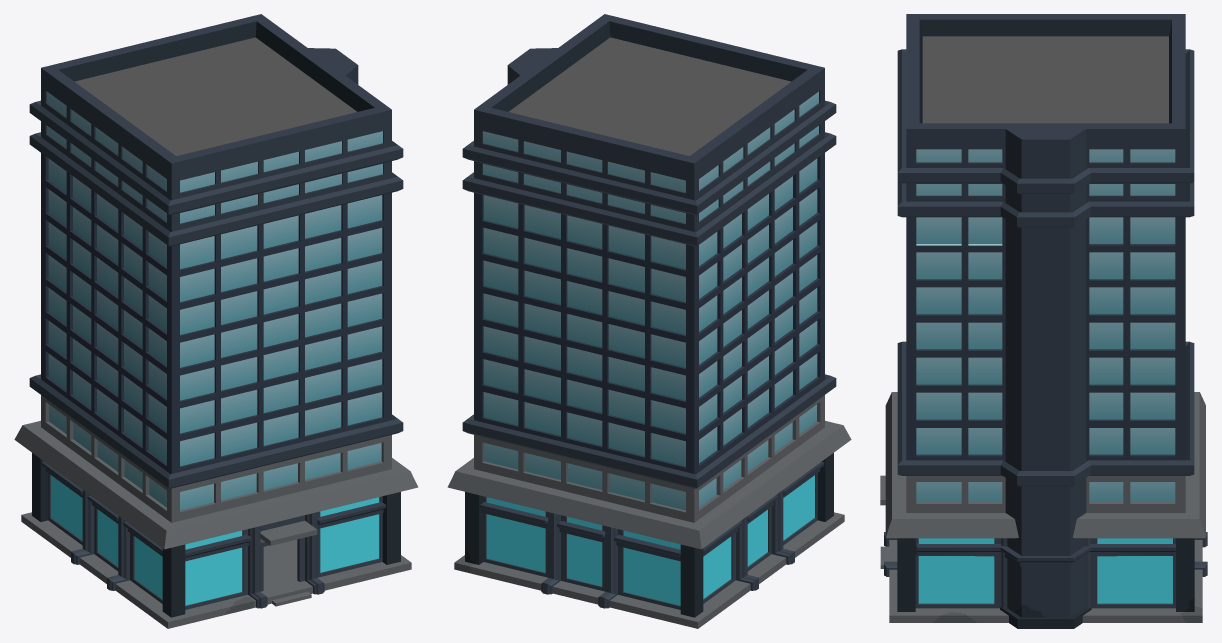
File: SM_Buildings_Office_06.fbx
The picture shows the model from 3 angles, left to right: view 1: azimuth 30°, elevation 25°; view 2: azimuth 150°, elevation 25°; view 3: azimuth 270°, elevation 25°; orthographic projection. The views are drawn at different scales.
Visible parts, largest first — view 1: SM_Buildings_Office_06; view 2: SM_Buildings_Office_06; view 3: SM_Buildings_Office_06.
Part boxes in pixels (box(x1,y1,x2,y2)): SM_Buildings_Office_06: box(14, 14, 418, 628); SM_Buildings_Office_06: box(447, 14, 851, 628); SM_Buildings_Office_06: box(880, 14, 1207, 628).
Bounding box in the file's own units: 18.8 × 31 × 18.85.
